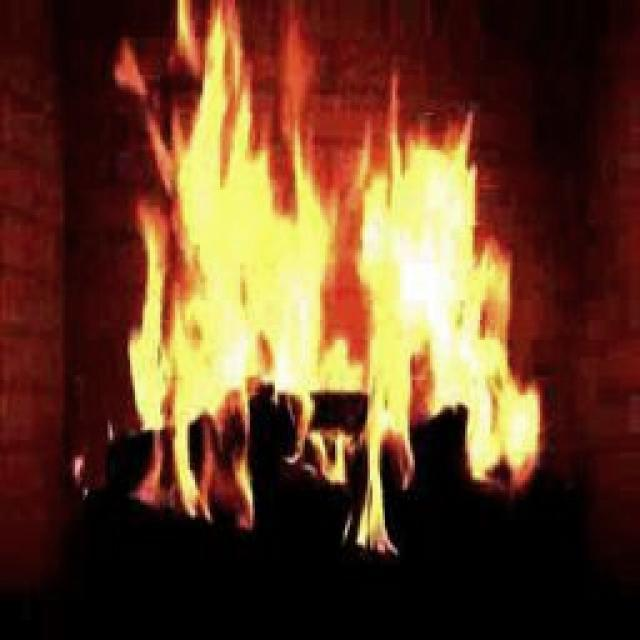Fire: (97, 38, 540, 474)
